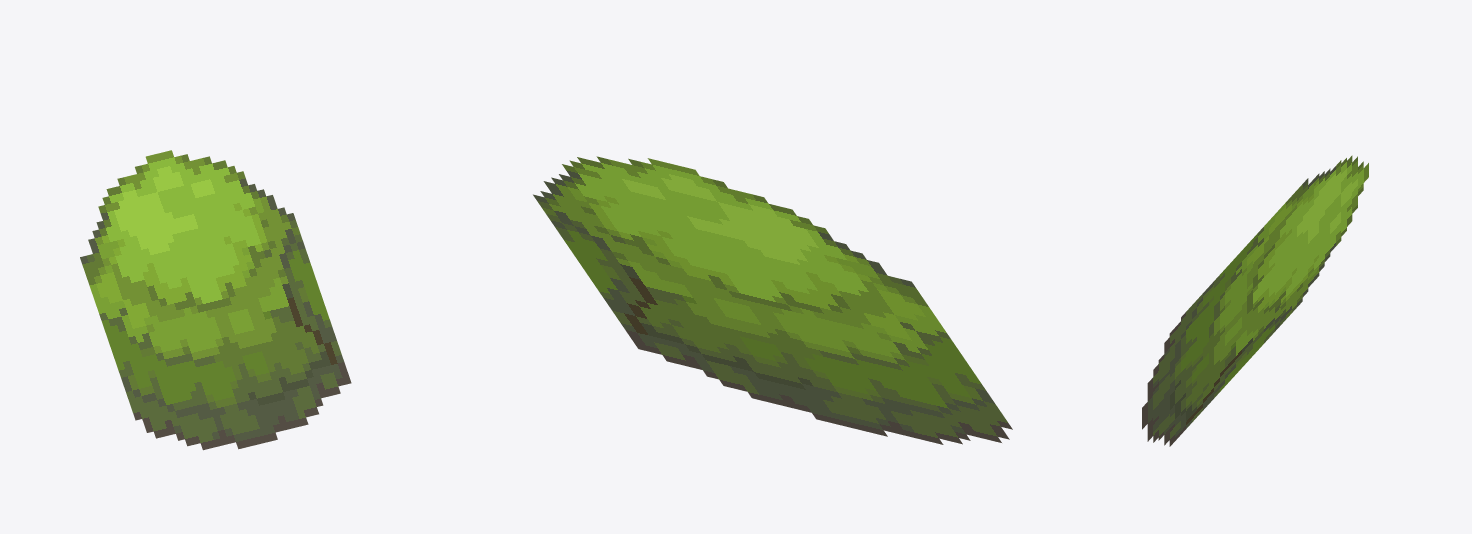
The model's file is kanto-tree-edge.glb.
3 renders of one model, left to right at view 1: azimuth 30°, elevation 25°; view 2: azimuth 150°, elevation 25°; view 3: azimuth 270°, elevation 25°, orthographic. The views are drawn at different scales.
Visible parts, largest first — view 1: kanto-tree-edge; view 2: kanto-tree-edge; view 3: kanto-tree-edge.
Boxes of the visible parts, x1,y1,x2,y2 form: kanto-tree-edge: (80, 150, 351, 450); kanto-tree-edge: (533, 156, 1012, 444); kanto-tree-edge: (1142, 155, 1368, 446).
Size of the model in its own units: 32 by 49.34 by 40.77.
1 material, 1 textured.
